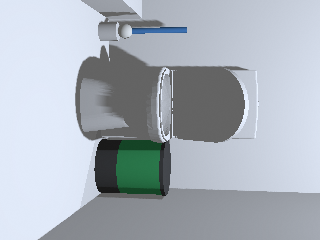lid_1: (171, 68, 248, 143)
